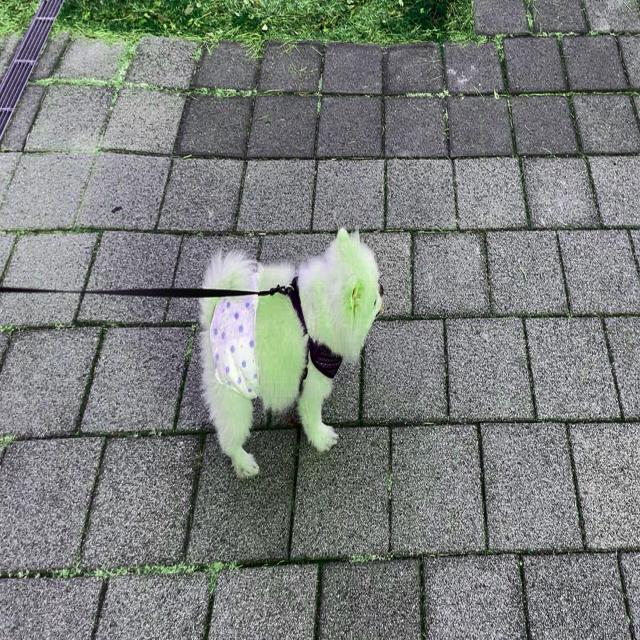Dog: (196, 225, 384, 480)
